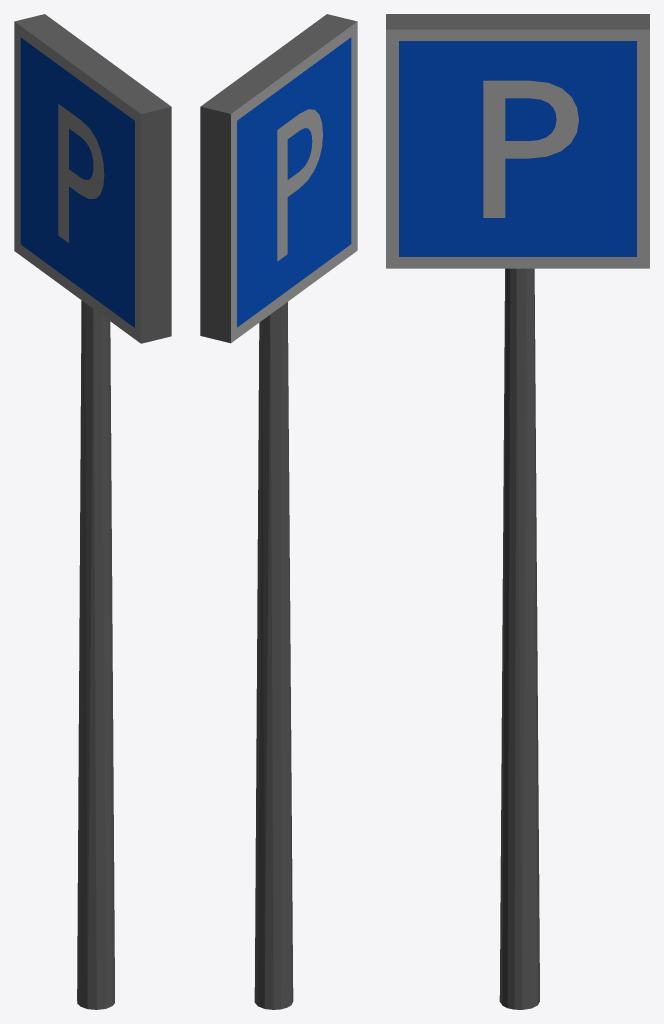
The picture shows the model from 3 angles, left to right: view 1: azimuth 30°, elevation 25°; view 2: azimuth 150°, elevation 25°; view 3: azimuth 270°, elevation 25°; orthographic projection. The views are drawn at different scales.
Parts seen in each view (by area): view 1: Cylinder.001_Material.027_0; view 2: Cylinder.001_Material.027_0; view 3: Cylinder.001_Material.027_0.
Boxes of the visible parts, x1,y1,x2,y2 form: Cylinder.001_Material.027_0: (14, 14, 171, 1009); Cylinder.001_Material.027_0: (200, 14, 357, 1009); Cylinder.001_Material.027_0: (386, 14, 649, 1009).
Size of the model in its own units: 0.0486 by 1.18 by 0.288.
Materials: 1 (1 with a texture image).
